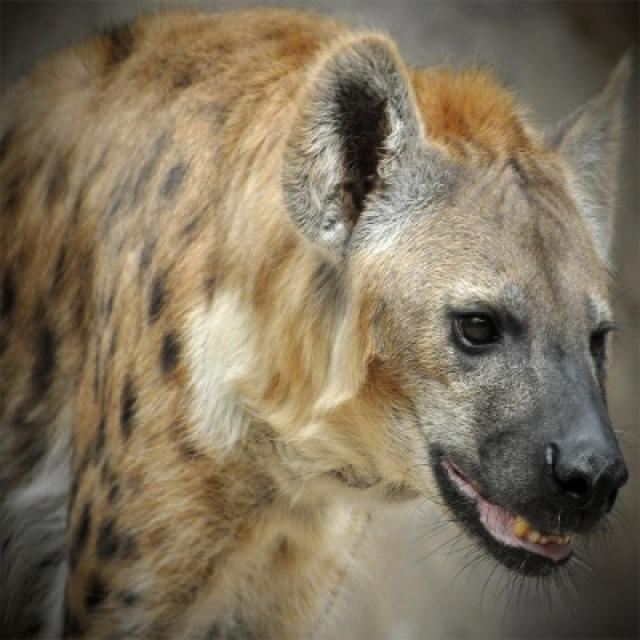hyena: (0, 10, 626, 637)
